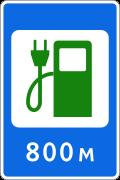Petrol Pump- Gas Station: (8, 19, 113, 168)
